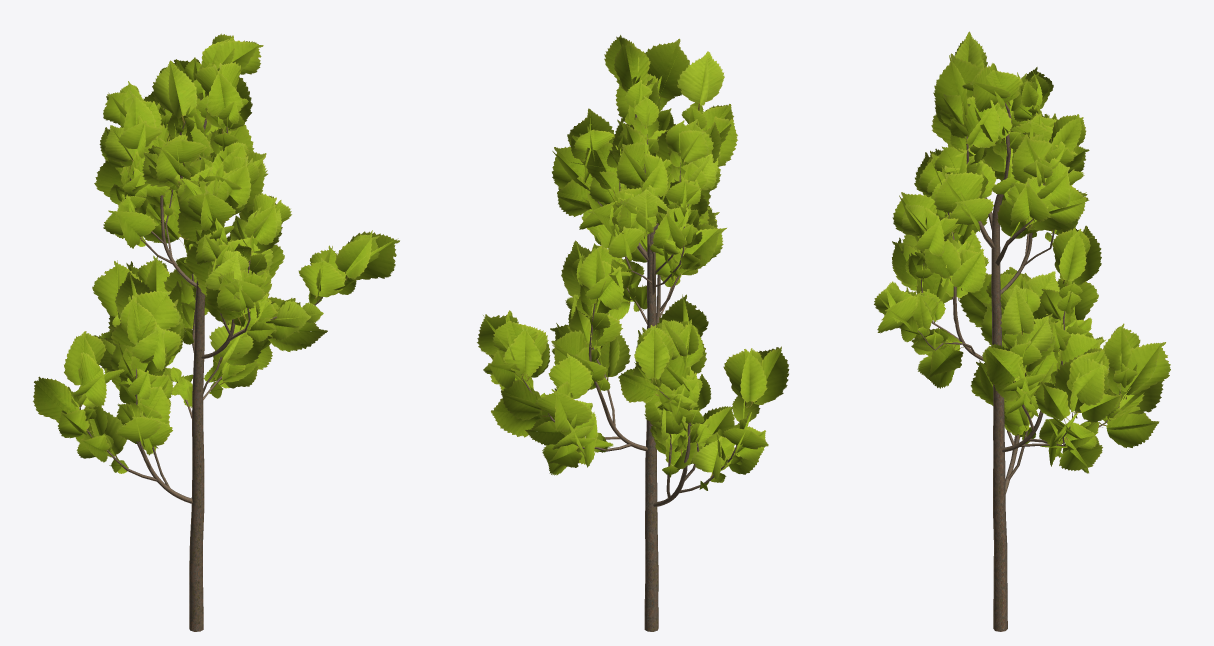
The model's file is tree1.glb.
3 views of the same model, side by side, from view 1: azimuth 30°, elevation 25°; view 2: azimuth 150°, elevation 25°; view 3: azimuth 270°, elevation 25° (orthographic). The views are drawn at different scales.
Parts seen in each view (by area): view 1: leaves, trunk; view 2: leaves, trunk; view 3: leaves, trunk.
Boxes of the visible parts, x1,y1,x2,y2 form: leaves: (33,33,399,473); trunk: (79,98,322,631); leaves: (477,35,789,490); trunk: (521,114,748,631); leaves: (874,31,1170,473); trunk: (918,103,1120,631).
Bounding box in the file's own units: 0.556 × 1 × 0.5305.
Materials: 2 (2 with a texture image).
